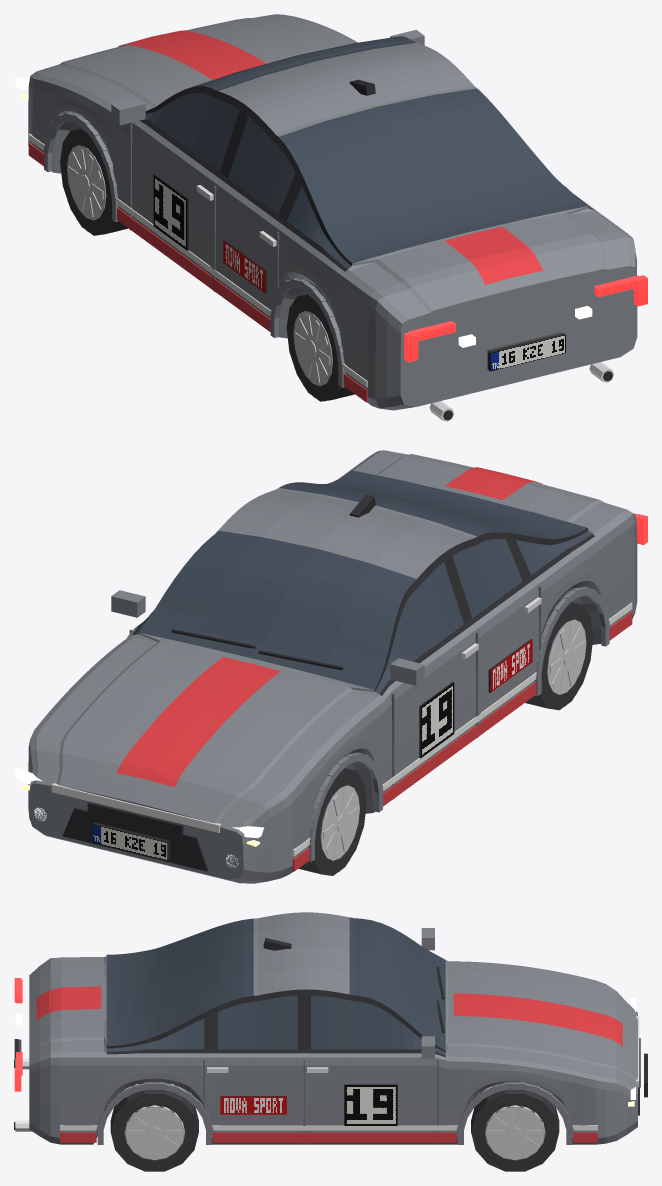
Rendered from kaze.glb.
3 views of the same model, one above another, from view 1: azimuth 30°, elevation 25°; view 2: azimuth 150°, elevation 25°; view 3: azimuth 270°, elevation 25° (orthographic). The views are drawn at different scales.
Parts seen in each view (by area): view 1: body.009, livery.009, wheel_RL.009, wheel_FL.009; view 2: body.009, livery.009, wheel_RL.009, wheel_FL.009; view 3: body.009, livery.009, wheel_RR.009, wheel_FR.009.
Part boxes in pixels (x1,y1,x2,y2): body.009: (14,14,647,421); livery.009: (28,30,543,402); wheel_RL.009: (286,290,354,401); wheel_FL.009: (60,125,128,235); body.009: (14,450,647,883); livery.009: (117,467,632,871); wheel_RL.009: (525,599,593,710); wheel_FL.009: (298,766,366,875); body.009: (14,912,647,1144); livery.009: (36,986,622,1142); wheel_RR.009: (110,1081,198,1171); wheel_FR.009: (471,1083,559,1171).
Size of the model in its own units: 2.1 by 1.52 by 4.75.
Materials: 17 (6 with a texture image).
